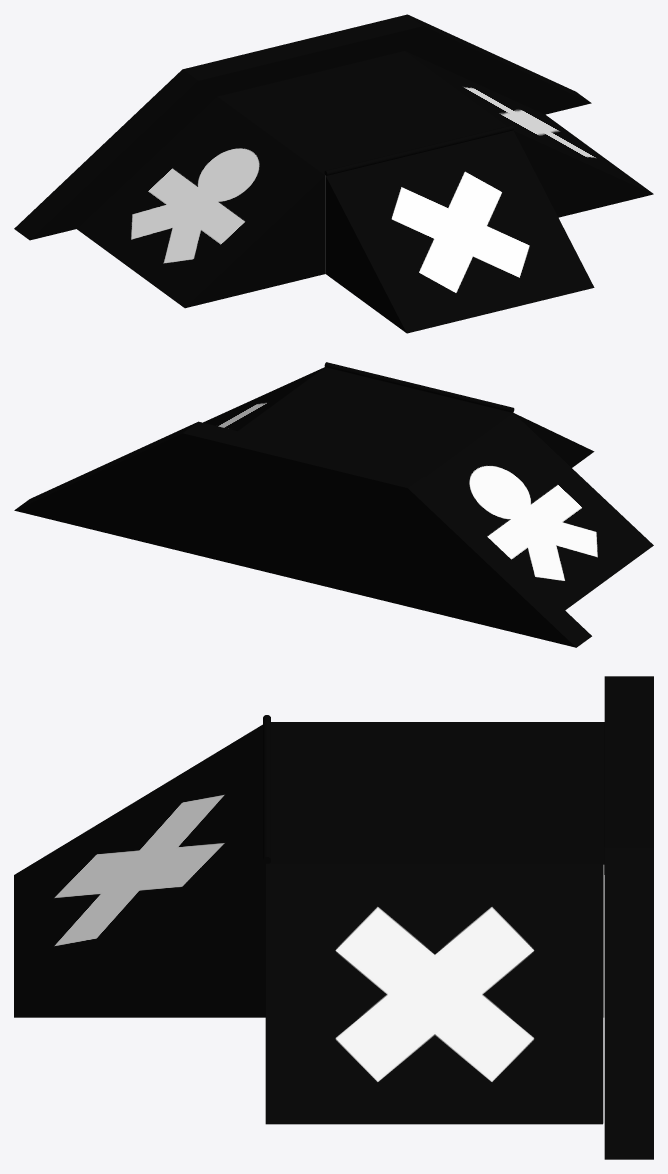
Rendered from ramp.gltf.
3 views of the same model, one above another, from view 1: azimuth 30°, elevation 25°; view 2: azimuth 150°, elevation 25°; view 3: azimuth 270°, elevation 25° (orthographic). The views are drawn at different scales.
Visible parts, largest first — view 1: Mesh_6, Mesh_4, Mesh_1, Mesh_9, Mesh_7, Mesh_3, Mesh_10, Mesh_5.002, Mesh_6.001, Mesh_5, Mesh_2; view 2: Mesh_8, Mesh_4, Mesh_1, Mesh_9, Mesh_10, Mesh_7, Mesh_6.001, Mesh_5, Mesh_2; view 3: Mesh_6.001, Mesh_1, Mesh_6, Mesh_5, Mesh_10, Mesh_7, Mesh_2, Mesh_5.002.
Boxes of the visible parts, x1,y1,x2,y2 form: Mesh_6: (326,130,594,333); Mesh_4: (77,96,324,307); Mesh_1: (217,51,507,175); Mesh_9: (14,69,198,240); Mesh_7: (183,14,423,113); Mesh_3: (185,176,325,308); Mesh_10: (409,15,591,114); Mesh_5.002: (513,130,653,217); Mesh_6.001: (406,51,652,193); Mesh_5: (325,176,406,332); Mesh_2: (324,125,513,175); Mesh_8: (182,433,407,606); Mesh_4: (425,413,653,610); Mesh_1: (238,367,512,477); Mesh_9: (408,476,591,647); Mesh_10: (14,422,197,551); Mesh_7: (183,421,423,487); Mesh_6.001: (203,367,324,431); Mesh_5: (514,413,594,467); Mesh_2: (324,362,514,412); Mesh_6.001: (266,863,603,1123); Mesh_1: (270,722,604,864); Mesh_6: (14,724,265,1017); Mesh_5: (14,865,265,1017); Mesh_10: (604,847,653,1159); Mesh_7: (604,676,653,847); Mesh_2: (263,715,270,863); Mesh_5.002: (265,864,602,1124).
Bounding box in the file's own units: 19.16 × 3.86 × 12.13.
6 materials, 3 textured.
